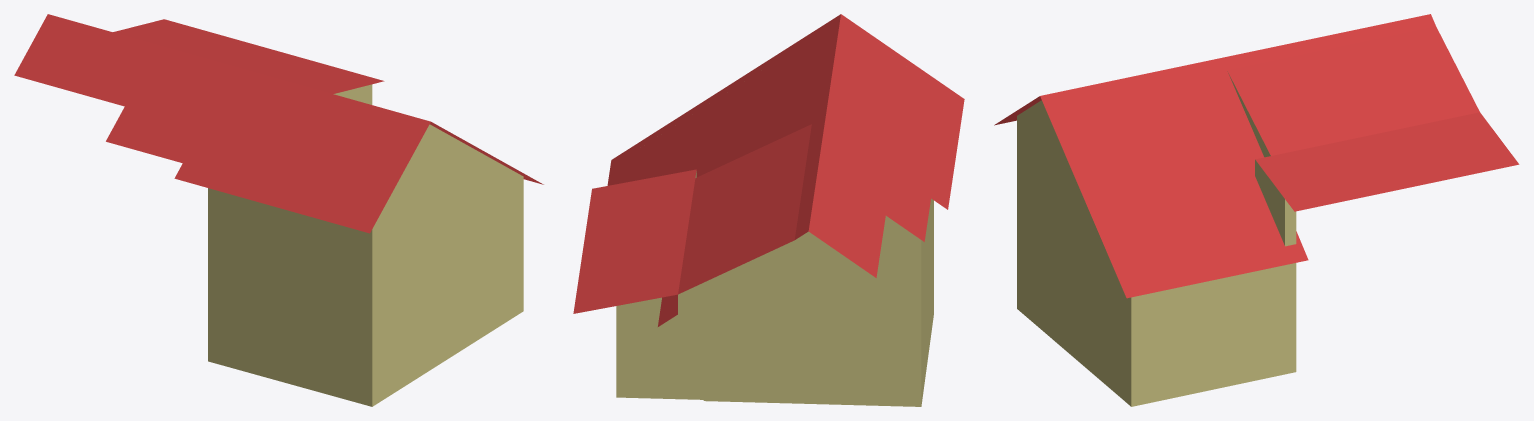
The picture shows the model from 3 angles, left to right: view 1: azimuth 30°, elevation 25°; view 2: azimuth 150°, elevation 25°; view 3: azimuth 270°, elevation 25°; orthographic projection. The views are drawn at different scales.
Bounding box in the file's own units: 16.21 × 20.31 × 10.47.
